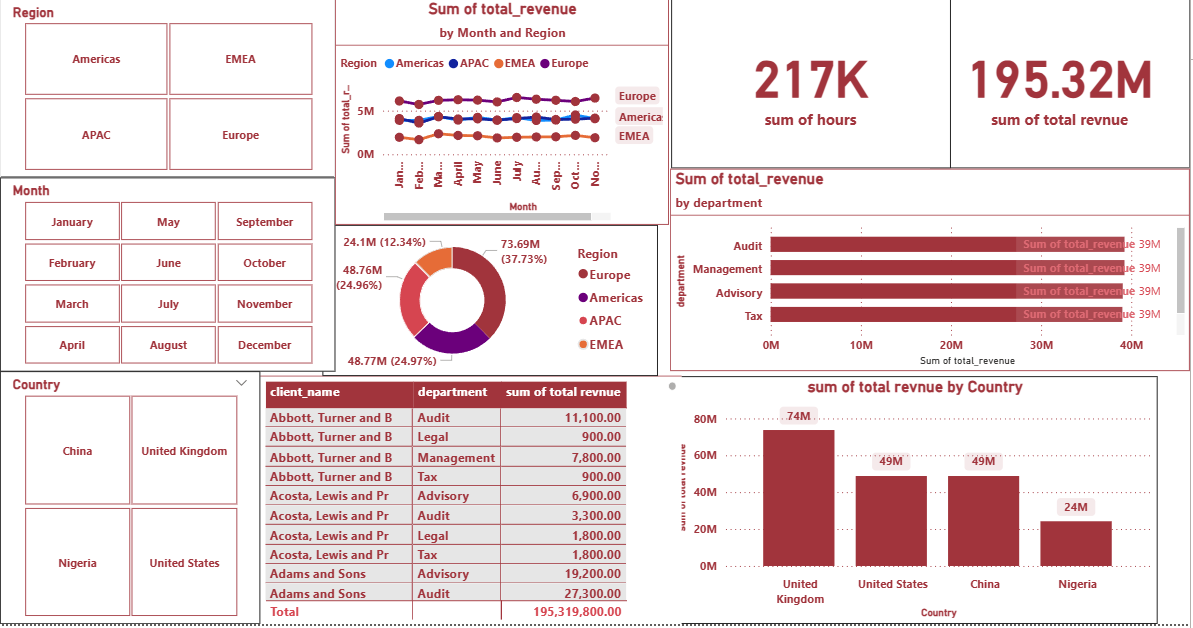

The page's visual inventory and layout, read from the dashboard file:
{"tool":"powerbi","page":{"name":"analsis","canvas":[1280,720],"ordinal":0},"visuals":[{"type":"card","fields":{"Values":["Services_data.sum of total revnue"]},"box":[1000.3,46.7,279.9,182.5],"z":0},{"type":"card","fields":{"Values":["Services_data.sum of hours"]},"box":[721.8,46.7,300.5,182.5],"z":1},{"type":"clusteredColumnChart","fields":{"Category":["Branch_data.Country"],"Y":["Services_data.sum of total revnue"]},"box":[722.2,453.2,523.1,266.3],"z":4},{"type":"tableEx","fields":{"Values":["Services_data.client_name","Services_data.department","Services_data.sum of total revnue"]},"box":[279.7,447.8,453.2,271.7],"z":5},{"type":"slicer","fields":{"Values":["Branch_data.Region"]},"box":[0,47.1,360.4,192.3],"z":6},{"type":"donutChart","fields":{"Category":["Branch_data.Region"],"Y":["Services_data.sum of total revnue"]},"box":[347,290.5,360.4,162.7],"z":7},{"type":"slicer","fields":{"Values":["Services_data.service_date.Variation.Date Hierarchy.Month"]},"box":[0,239.4,360.4,208.4],"z":8},{"type":"slicer","fields":{"Values":["Branch_data.Country"]},"box":[0,447.8,279.7,271.7],"z":9},{"type":"clusteredBarChart","fields":{"Category":["Services_data.department"],"Y":["Services_data.total_revenue"]},"box":[720.8,230,559.4,217.9],"z":10},{"type":"lineChart","fields":{"Category":["Services_data.service_date.Variation.Date Hierarchy.Month"],"Y":["Services_data.total_revenue"],"Series":["Branch_data.Region"]},"box":[360.4,47.1,359.1,243.4],"z":11}]}

Visuals, with their boxes in screenshot pixels (x1, y1, x2, y2):
card - Services_data.sum of total revnue: detection(924, 0, 1183, 168)
card - Services_data.sum of hours: detection(667, 0, 945, 168)
clusteredColumnChart - Branch_data.Country x Services_data.sum of total revnue: detection(667, 375, 1151, 621)
tableEx - Services_data.client_name x Services_data.department: detection(258, 370, 677, 621)
slicer - Branch_data.Region: detection(0, 0, 333, 178)
donutChart - Branch_data.Region x Services_data.sum of total revnue: detection(321, 225, 654, 375)
slicer - Services_data.service_date.Variation.Date Hierarchy.Month: detection(0, 178, 333, 370)
slicer - Branch_data.Country: detection(0, 370, 258, 621)
clusteredBarChart - Services_data.department x Services_data.total_revenue: detection(666, 169, 1183, 370)
lineChart - Services_data.service_date.Variation.Date Hierarchy.Month x Services_data.total_revenue: detection(333, 0, 665, 225)
